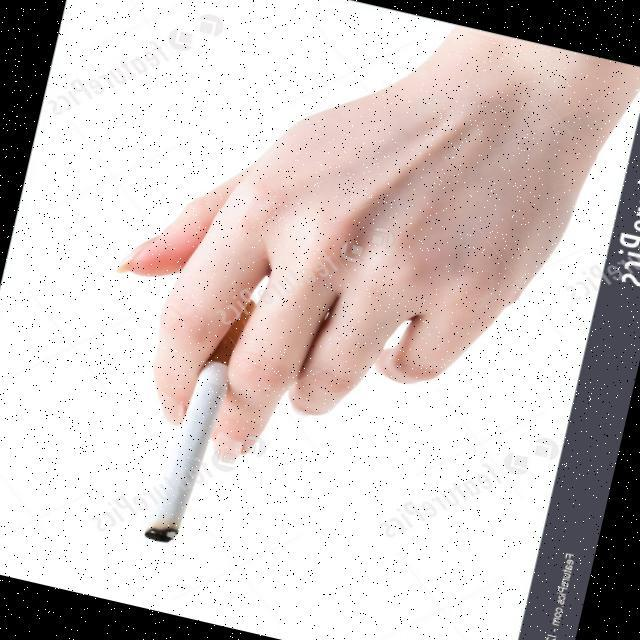cigarette: (127, 336, 249, 570)
